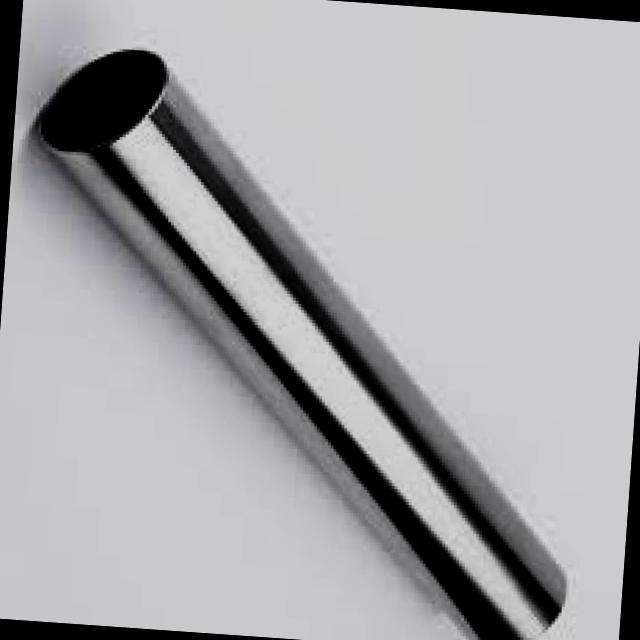gas: (39, 49, 563, 640)
